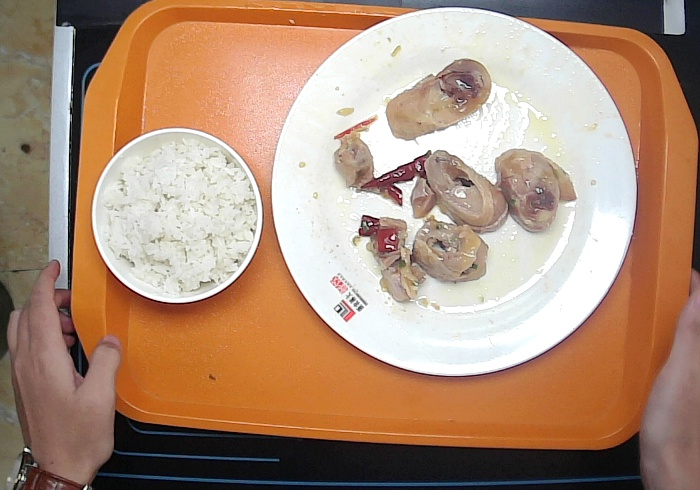ZNLD-Da_Yuan_Pan: (268, 8, 640, 378)
ZNLD-Fan_Wan: (88, 127, 262, 309)
